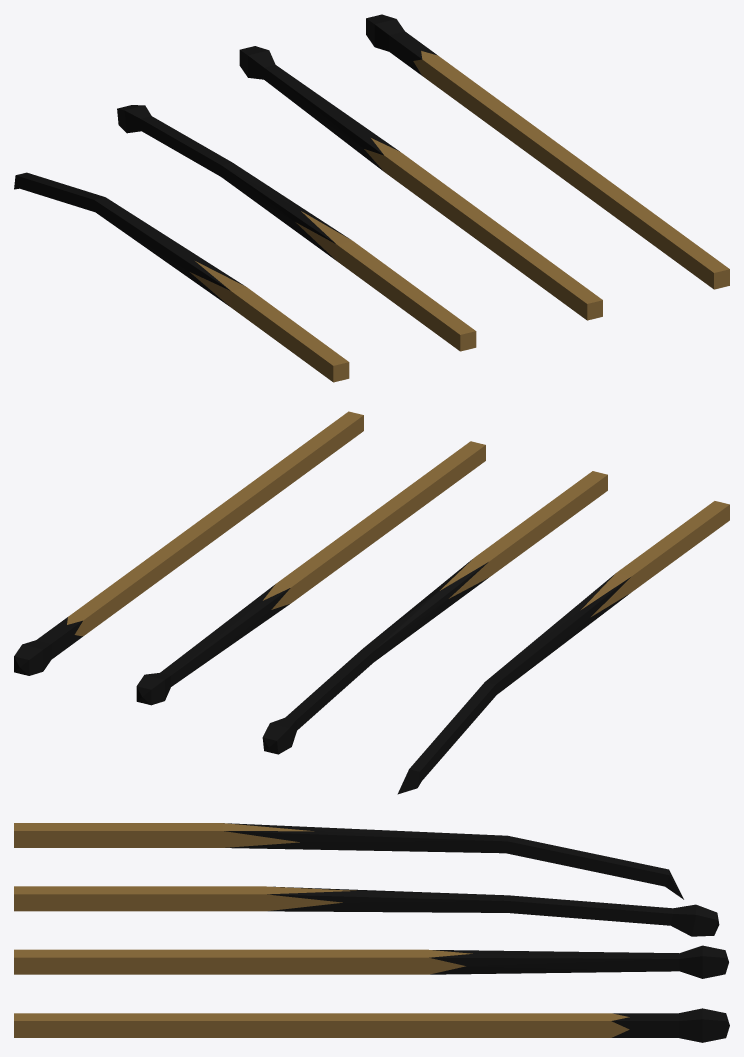
File: singlematches.fbx
The picture shows the model from 3 angles, top to bottom: view 1: azimuth 30°, elevation 25°; view 2: azimuth 150°, elevation 25°; view 3: azimuth 270°, elevation 25°; orthographic projection. The views are drawn at different scales.
Parts seen in each view (by area): view 1: burnt_1, burnt_2, burnt_3, burnt_4; view 2: burnt_1, burnt_2, burnt_3, burnt_4; view 3: burnt_1, burnt_2, burnt_3, burnt_4.
Part boxes in pixels (<box>): burnt_1: <box>366,14,729,289</box>; burnt_2: <box>239,46,602,320</box>; burnt_3: <box>117,105,476,351</box>; burnt_4: <box>14,172,349,382</box>; burnt_1: <box>14,411,363,675</box>; burnt_2: <box>136,441,485,705</box>; burnt_3: <box>262,471,607,754</box>; burnt_4: <box>397,501,729,794</box>; burnt_1: <box>14,1008,729,1042</box>; burnt_2: <box>14,945,728,978</box>; burnt_3: <box>14,886,719,936</box>; burnt_4: <box>14,823,683,899</box>.
Bounding box in the file's own units: 25.82 × 4.29 × 39.15.
